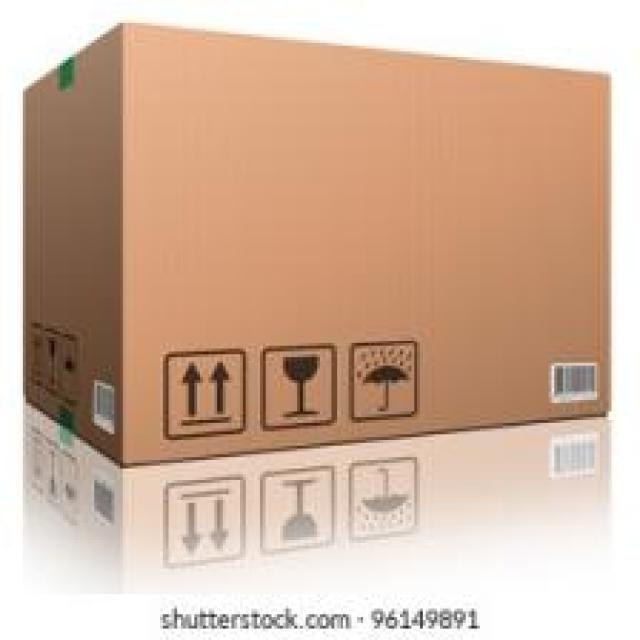box: (22, 21, 614, 467)
